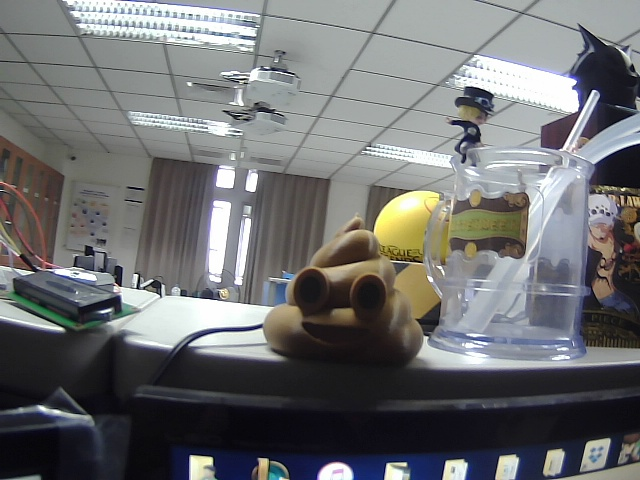shit: (257, 209, 432, 375)
